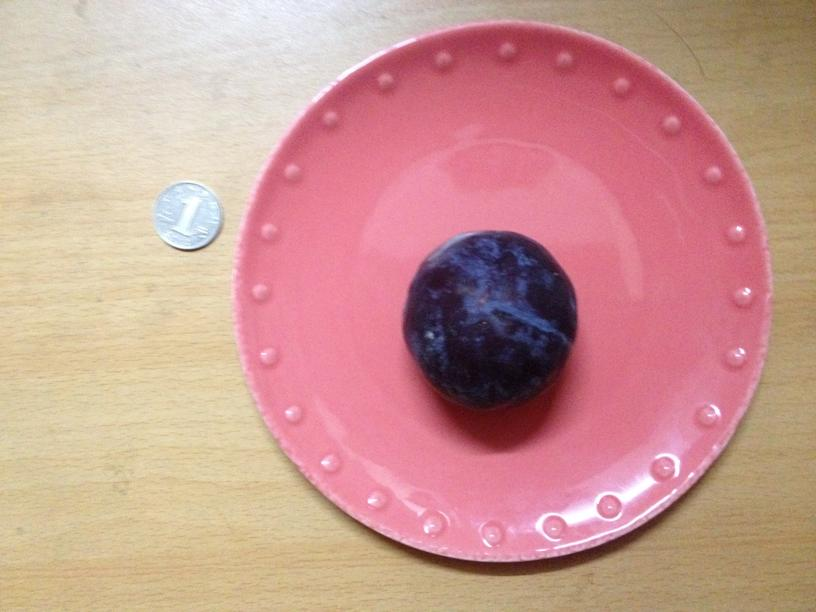coin: (153, 181, 223, 249)
plum: (401, 228, 579, 401)
